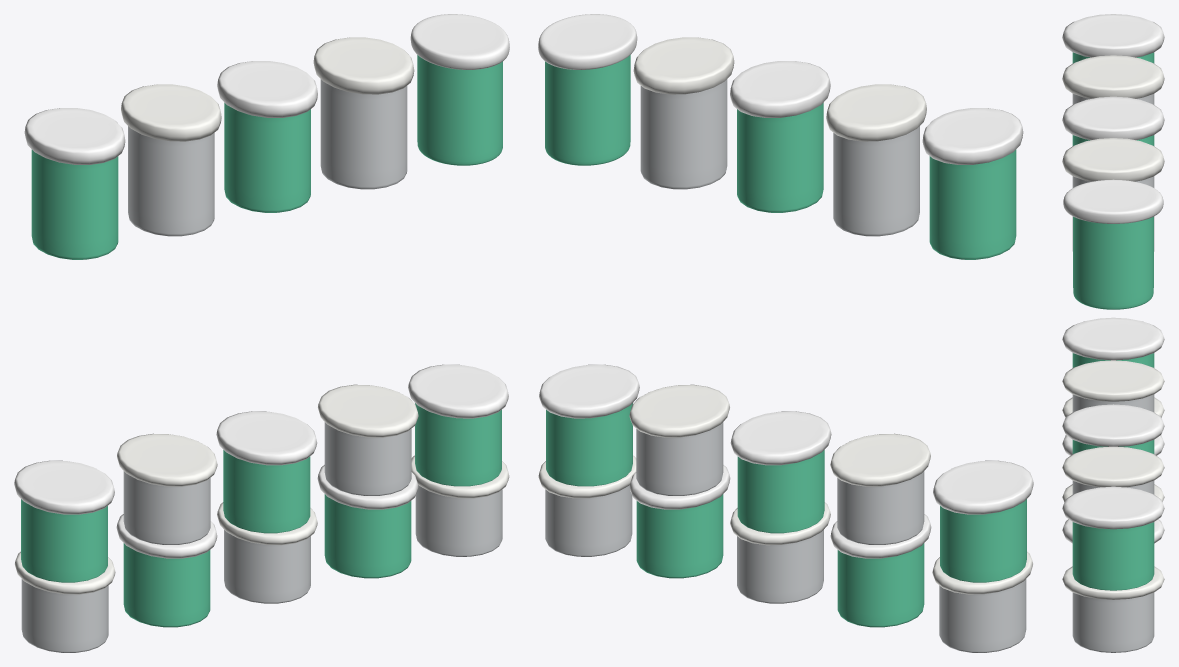
The model's file is jars.fbx.
The picture shows the model from 3 angles, left to right: view 1: azimuth 30°, elevation 25°; view 2: azimuth 150°, elevation 25°; view 3: azimuth 270°, elevation 25°; orthographic projection. The views are drawn at different scales.
Parts seen in each view (by area): view 1: jar2, jar5, jar4, jar3, jar1, jar8, jar10, jar7, jar12, jar14, jar15, jar13 (+3 smaller); view 2: jar2, jar5, jar4, jar3, jar1, jar8, jar10, jar7, jar12, jar14, jar15, jar13 (+3 smaller); view 3: jar1, jar7, jar6, jar14, jar2, jar10, jar8, jar3, jar5, jar4, jar12, jar13 (+3 smaller).
Boxes of the visible parts, box(x1,y1,x2,y2) form: jar2: box(313, 37, 414, 189); jar5: box(24, 108, 125, 259); jar4: box(121, 84, 221, 236); jar3: box(217, 61, 317, 212); jar1: box(410, 14, 509, 165); jar8: box(216, 411, 317, 533); jar10: box(14, 460, 114, 582); jar7: box(408, 364, 508, 486); jar12: box(318, 384, 418, 495); jar14: box(117, 433, 217, 544); jar15: box(116, 514, 217, 627); jar13: box(317, 465, 418, 578); jar2: box(633, 37, 734, 189); jar5: box(922, 108, 1023, 259); jar4: box(826, 84, 926, 236); jar3: box(730, 61, 830, 212); jar1: box(538, 14, 637, 165); jar8: box(730, 411, 831, 533); jar10: box(933, 460, 1033, 582); jar7: box(539, 364, 639, 486); jar12: box(629, 384, 729, 495); jar14: box(830, 433, 930, 544); jar15: box(830, 514, 931, 627); jar13: box(629, 465, 730, 578); jar1: box(1063, 179, 1163, 309); jar7: box(1062, 486, 1164, 590); jar6: box(1062, 566, 1164, 652); jar14: box(1062, 360, 1164, 411); jar2: box(1062, 138, 1164, 251); jar10: box(1062, 317, 1164, 367); jar8: box(1062, 404, 1164, 453); jar3: box(1062, 96, 1164, 145); jar5: box(1062, 14, 1164, 63); jar4: box(1062, 55, 1164, 104); jar12: box(1062, 446, 1164, 494); jar13: box(1062, 519, 1164, 543).
Size of the model in its own units: 3.57 by 3.6 by 0.7557.
